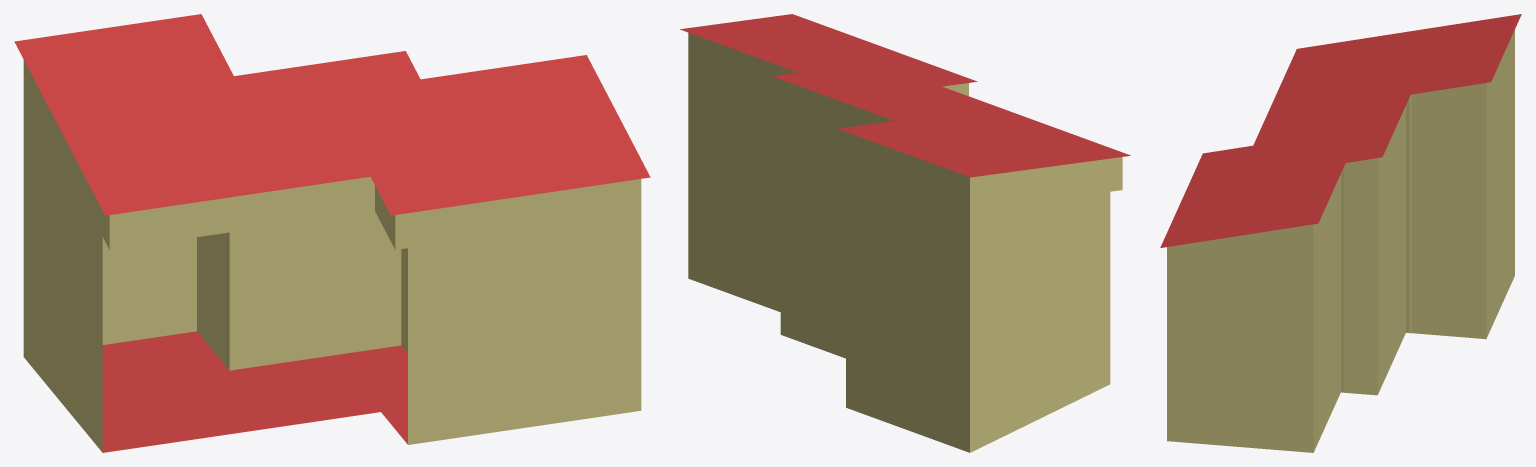
3 renders of one model, left to right at view 1: azimuth 30°, elevation 25°; view 2: azimuth 150°, elevation 25°; view 3: azimuth 270°, elevation 25°, orthographic. The views are drawn at different scales.
Bounding box in the file's own units: 19.74 × 15.08 × 11.96.
